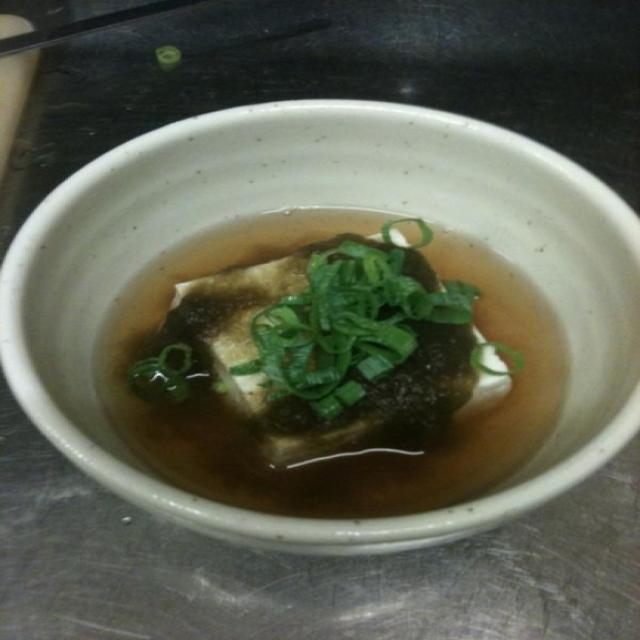豆腐料理: (37, 66, 609, 578)
